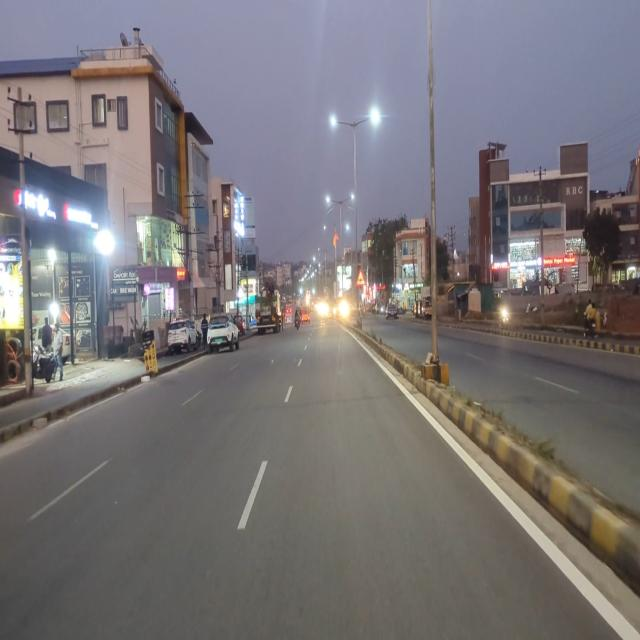bien_cam: (355, 268, 366, 286)
